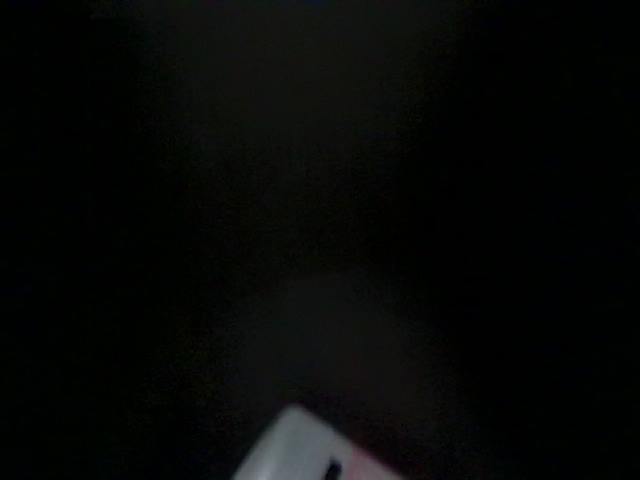CYLJ: (439, 338, 556, 445)
